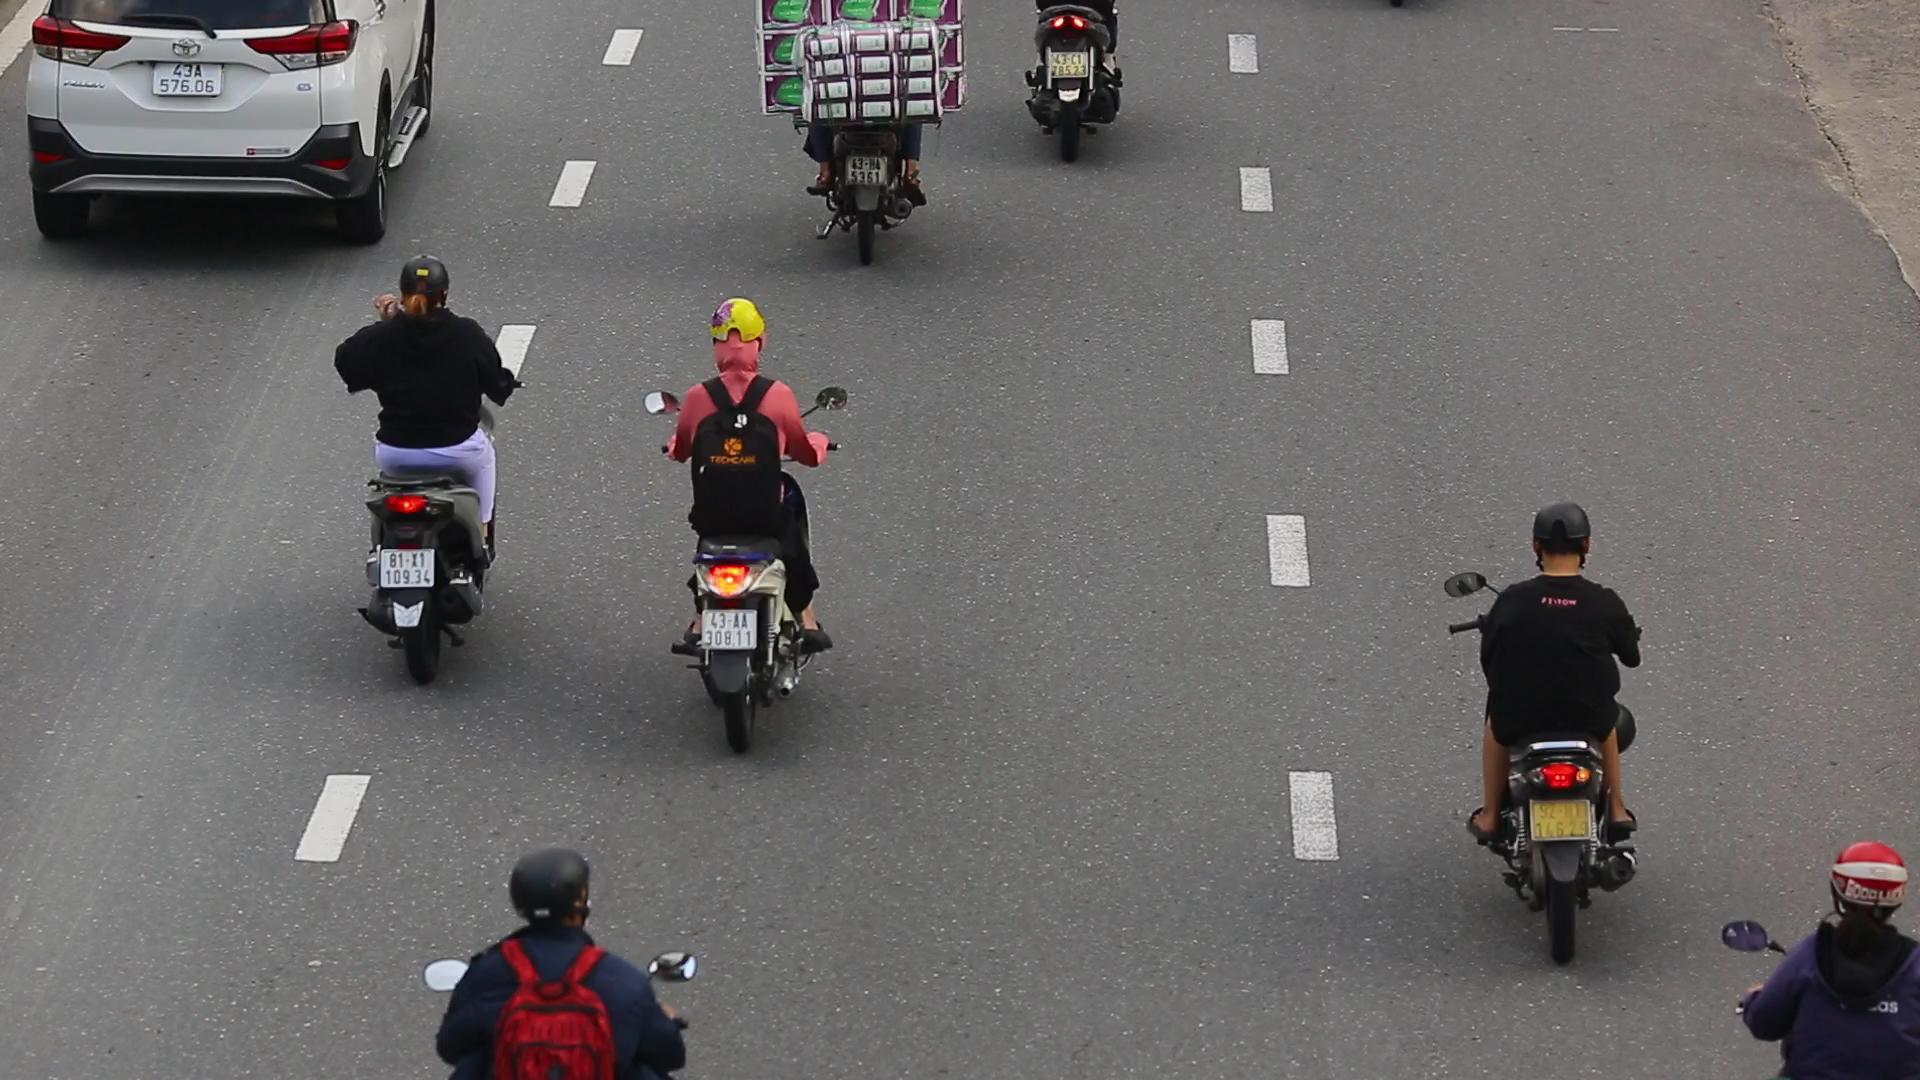motobike: (1441, 504, 1660, 964), (642, 298, 858, 757), (332, 253, 524, 683)
